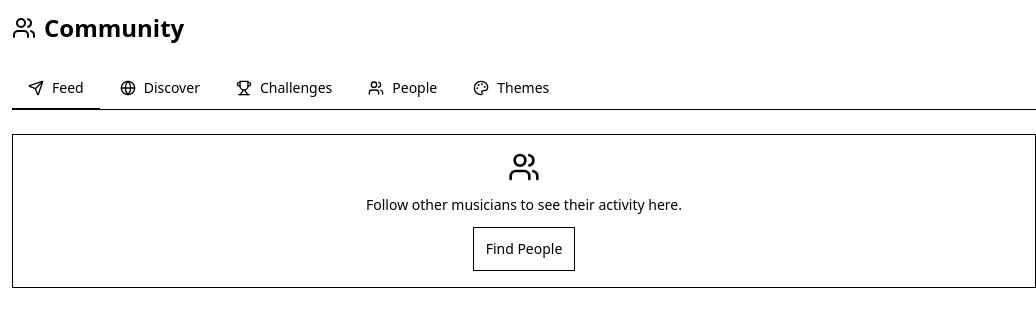
Test case: CommunityPage › shows empty challenges message
Click the button "Challenges": [284, 89] box [220, 68, 348, 110]
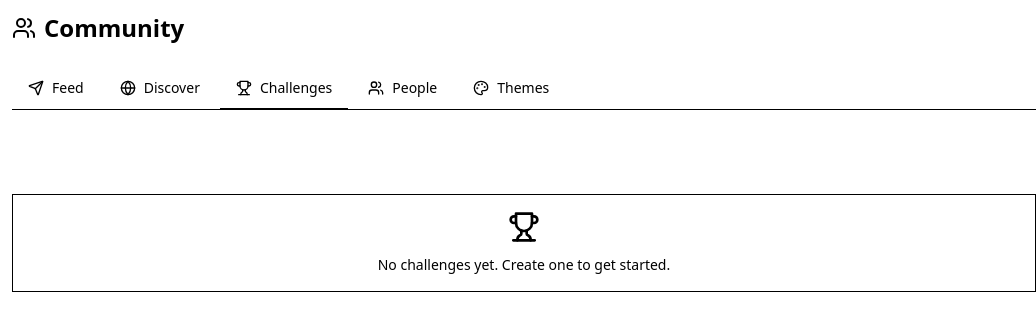
Result: the text "No challenges yet. Create one to get started." is shown at [378, 255, 670, 274]
